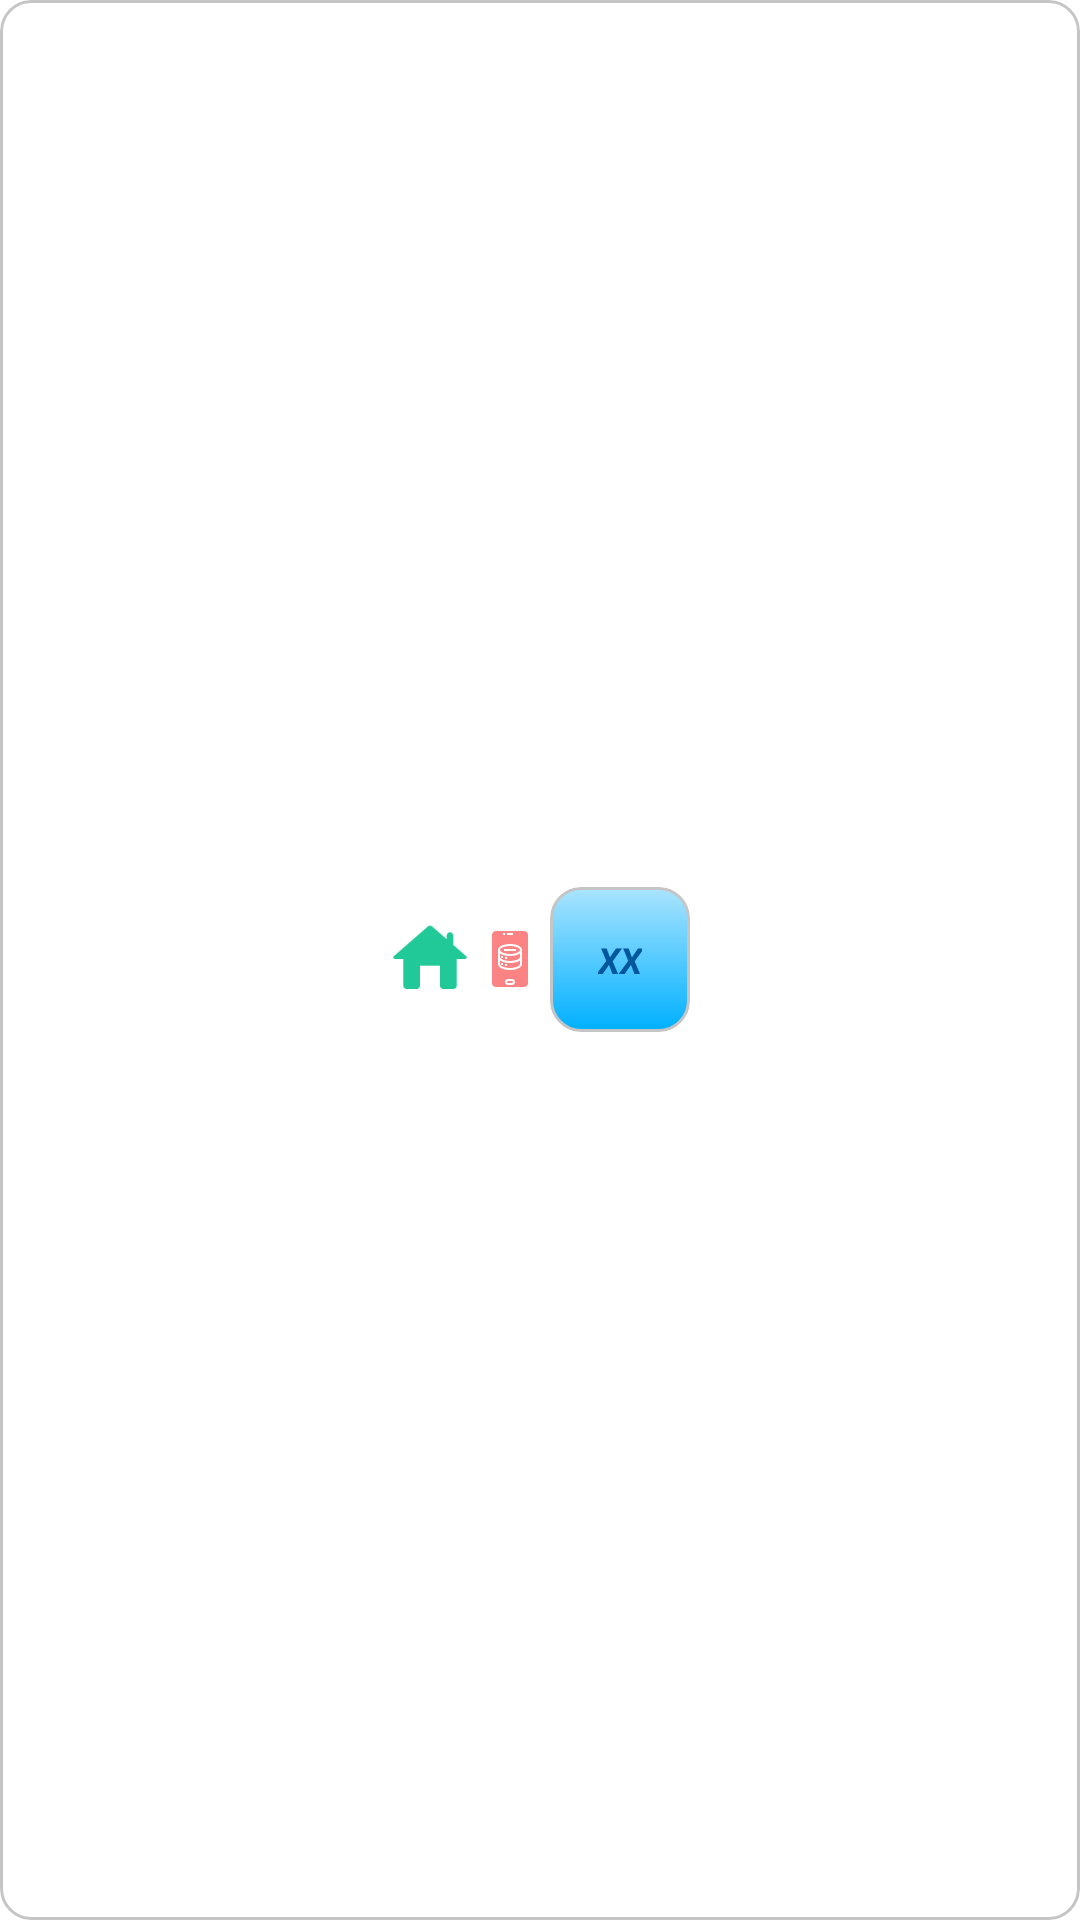

Icons on this 1080 × 1920 Android screen, each with the point to tap as (x=x, y=y):
home: (x=430, y=957)
storage: (x=510, y=959)
